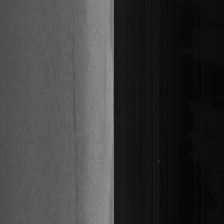silk_spot: (58, 47, 82, 165)
